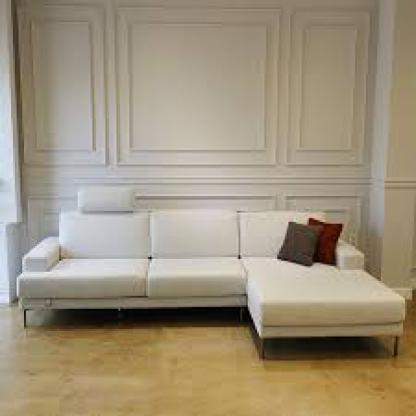sofa: (17, 211, 399, 351)
